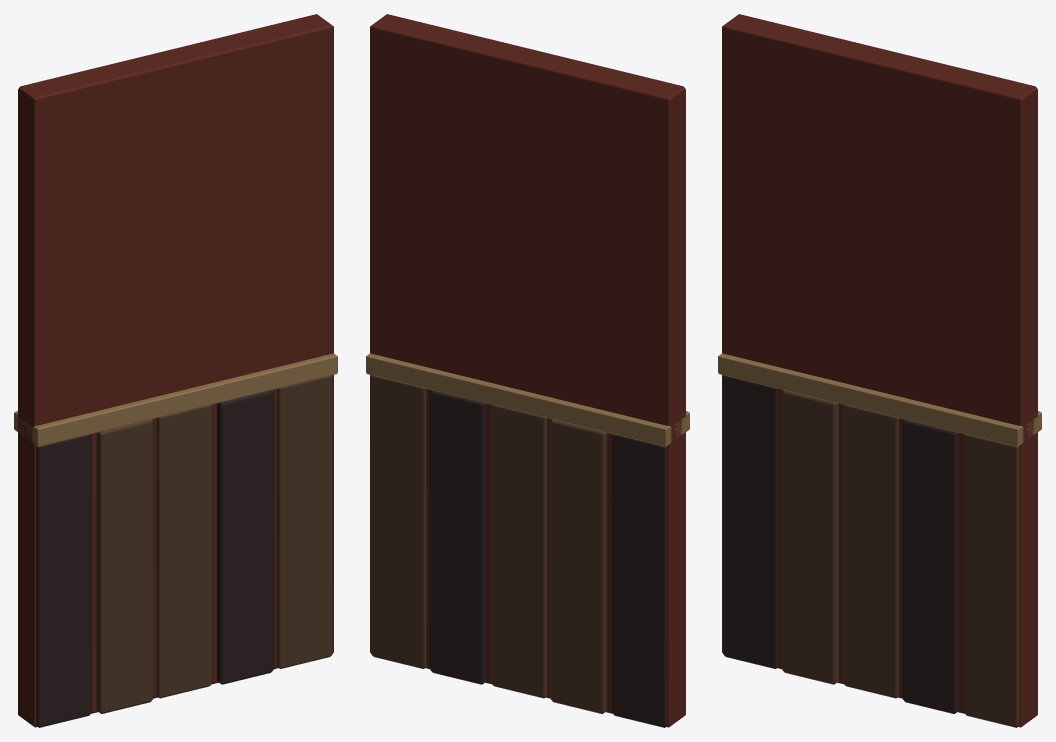
Rendered from railcar-wall-panelled.f7aa701c.glb.
3 renders of one model, left to right at view 1: azimuth 30°, elevation 25°; view 2: azimuth 150°, elevation 25°; view 3: azimuth 330°, elevation 25°, orthographic.
Visible parts, largest first — view 1: body; view 2: body; view 3: body.
Boxes of the visible parts, box(x1,y1,x2,y2) form: body: box(14, 14, 337, 727); body: box(366, 14, 689, 727); body: box(718, 14, 1041, 727).
Size of the model in its own units: 1 by 2 by 0.14.
